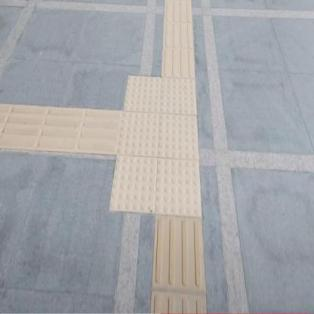Podoctatil: (93, 57, 219, 240), (0, 98, 117, 159), (149, 220, 209, 312), (162, 0, 194, 75)
